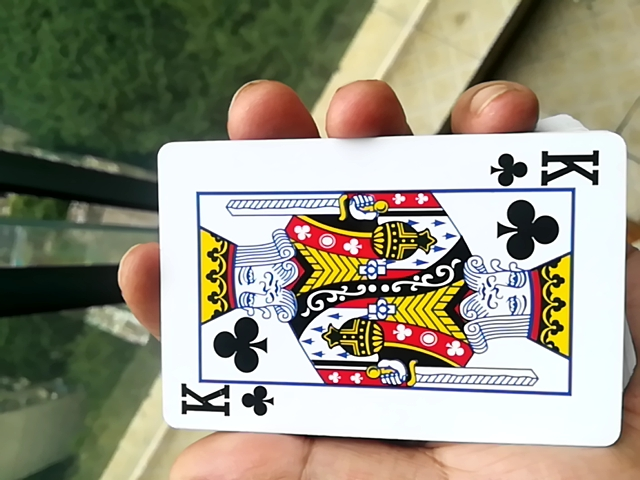mh k: (142, 133, 620, 453)
